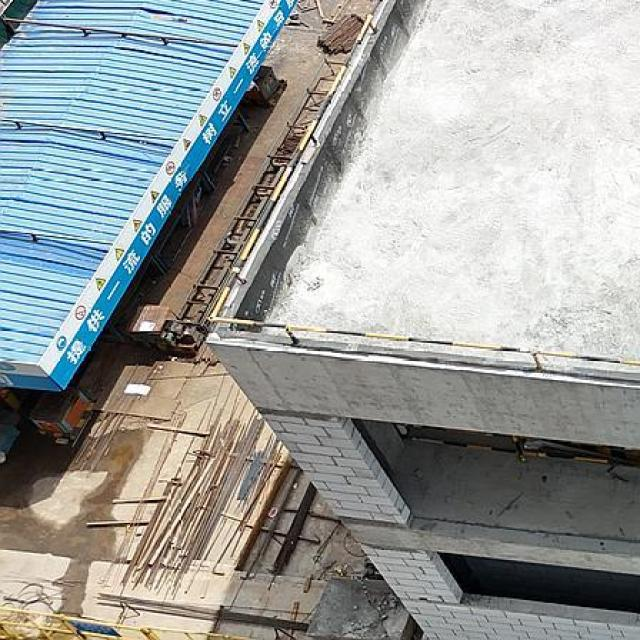edge_guardrail: (205, 0, 640, 373), (408, 436, 609, 464)
